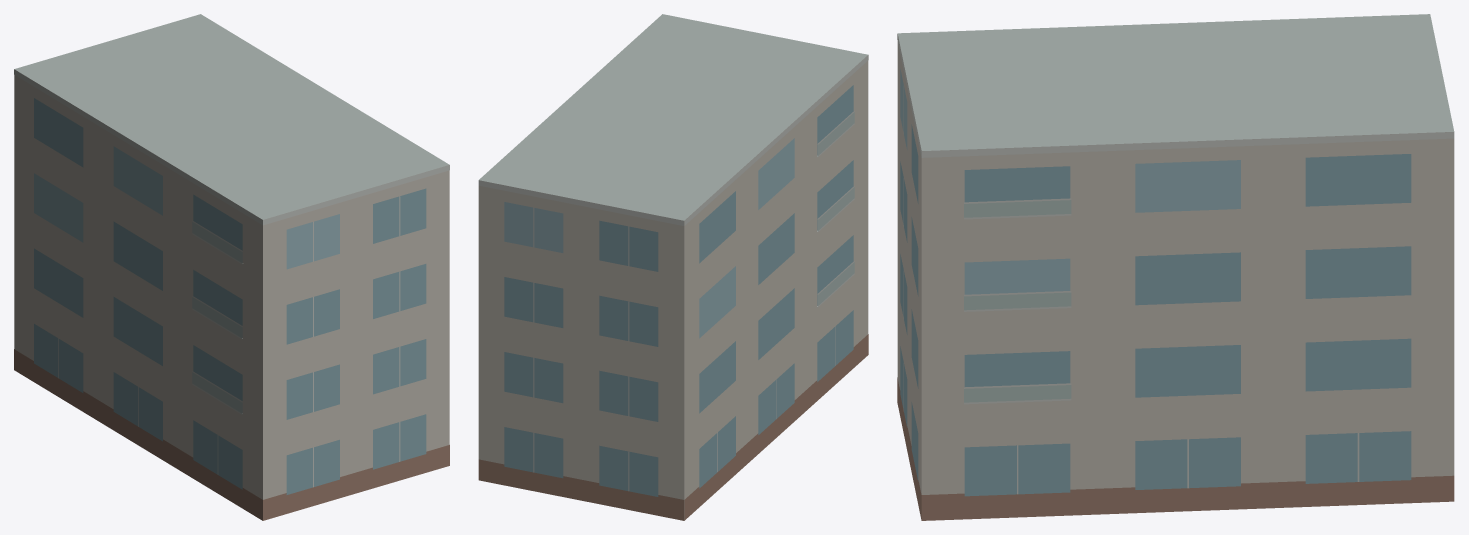
Rendered from survey-upis-32701294.glb.
3 views of the same model, side by side, from view 1: azimuth 30°, elevation 25°; view 2: azimuth 150°, elevation 25°; view 3: azimuth 270°, elevation 25° (orthographic). The views are drawn at different scales.
Parts seen in each view (by area): view 1: survey-upis-32701294.tmp; view 2: survey-upis-32701294.tmp; view 3: survey-upis-32701294.tmp.
Part boxes in pixels (left/top/right/bottom): survey-upis-32701294.tmp: left=14, top=14, right=449, bottom=520; survey-upis-32701294.tmp: left=478, top=14, right=868, bottom=520; survey-upis-32701294.tmp: left=897, top=14, right=1454, bottom=520.
Size of the model in its own units: 10.63 by 13.35 by 18.23.
